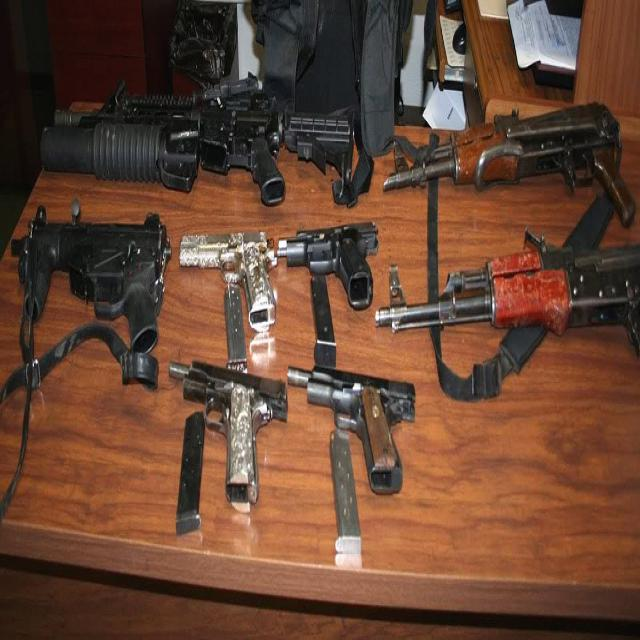firearm: (41, 74, 354, 209), (374, 223, 640, 362), (382, 101, 636, 231), (10, 202, 172, 358)
pistol: (167, 356, 288, 520), (287, 364, 416, 496), (179, 228, 277, 332), (277, 220, 379, 309)
rocket: (41, 122, 200, 197)
